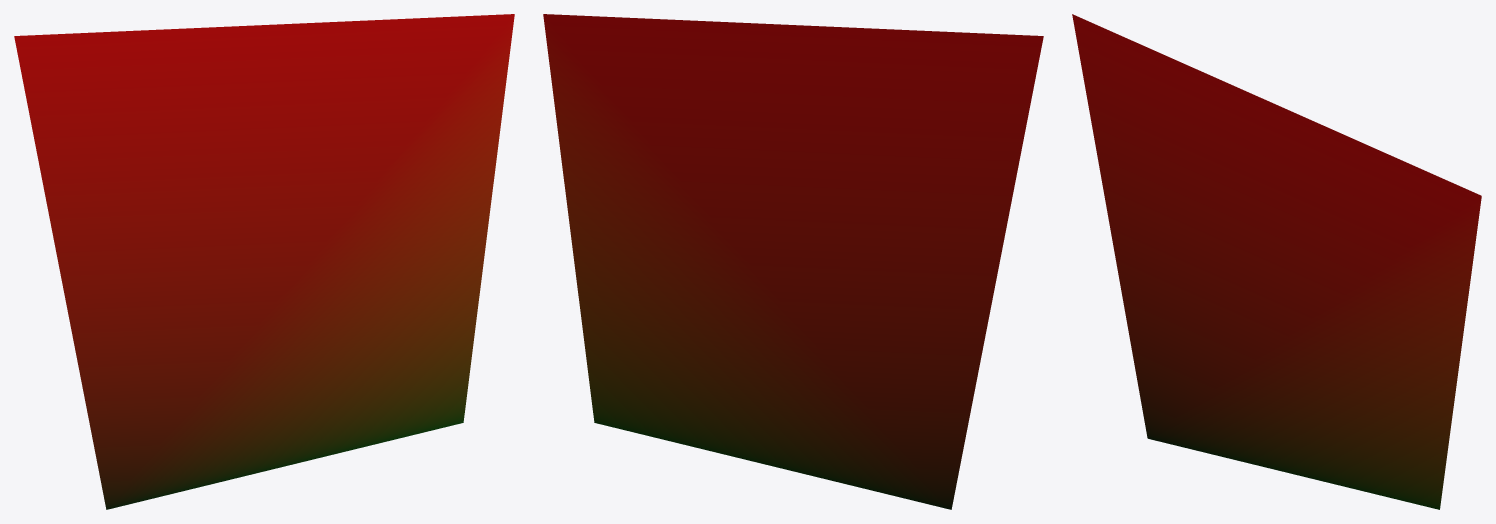
The model's file is Var1_LOD3.fbx.
3 renders of one model, left to right at view 1: azimuth 30°, elevation 25°; view 2: azimuth 150°, elevation 25°; view 3: azimuth 330°, elevation 25°, orthographic. The views are drawn at different scales.
Visible parts, largest first — view 1: _dc02_Var1_LOD3; view 2: _dc02_Var1_LOD3; view 3: _dc02_Var1_LOD3.
Part boxes in pixels (x1=…): _dc02_Var1_LOD3: x1=14, y1=14, x2=514, y2=509; _dc02_Var1_LOD3: x1=543, y1=14, x2=1043, y2=509; _dc02_Var1_LOD3: x1=1072, y1=14, x2=1481, y2=509.
Size of the model in its own units: 37.5 by 35.53 by 5.13e-06.
